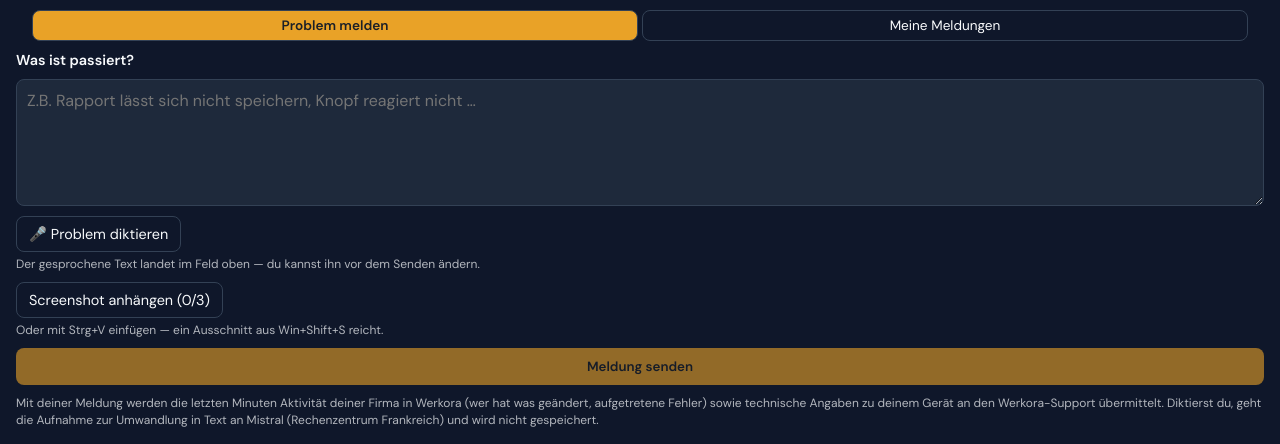
SupportForm — Diktat › hängt das Diktat an bereits getippten Text
The image size is (1280, 444).
Replace the text in the text box labelled "Was ist passiert?" with "Seit heute:" at (640, 142), box [16,79,1264,206]
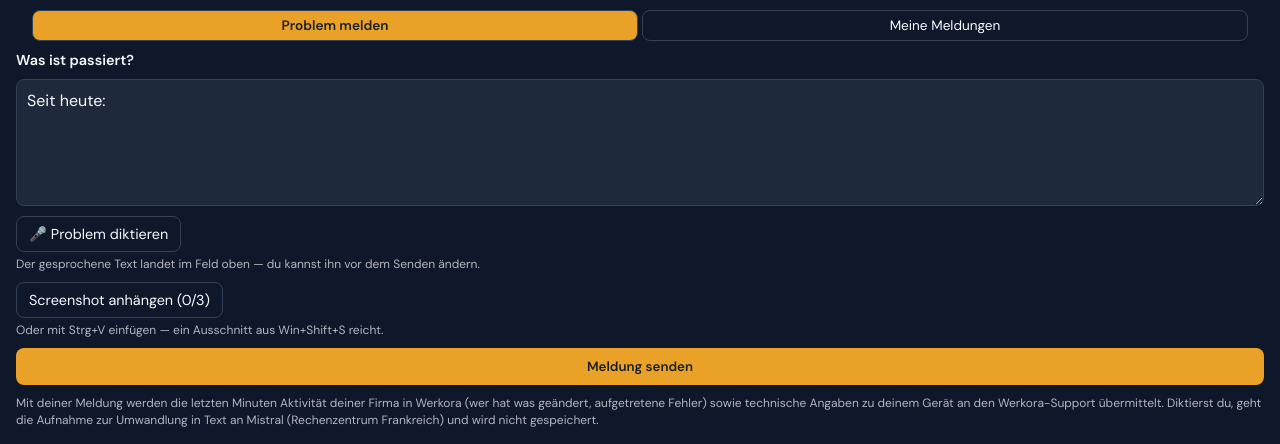
Click the button "🎤 Problem diktieren" at (99, 234), box [16,216,181,252]
Wait 1000 ms
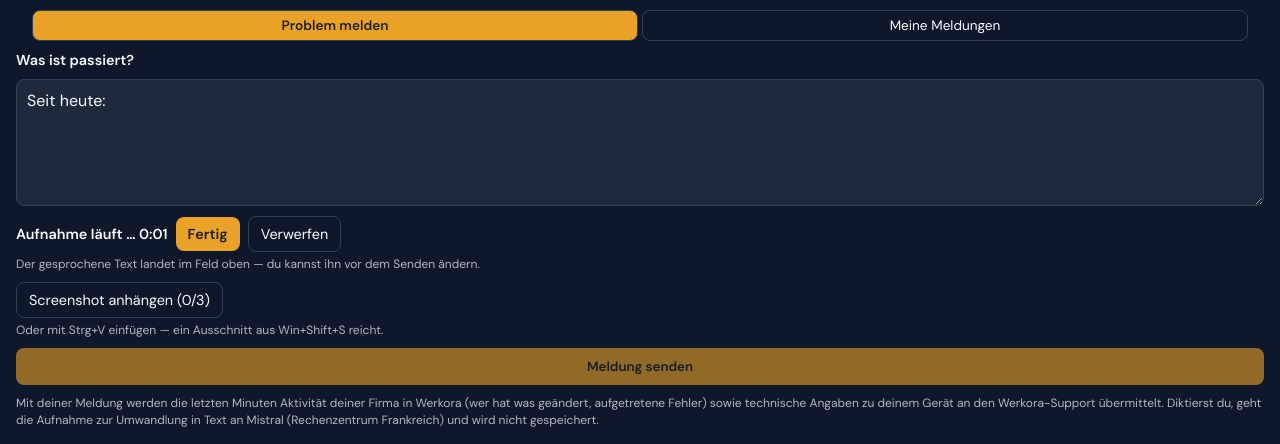
Result: the text "Aufnahme läuft" is shown at [16,225,123,243]
Click the button "Fertig" at (208, 234), box [176,217,240,251]
Wait 600 ms
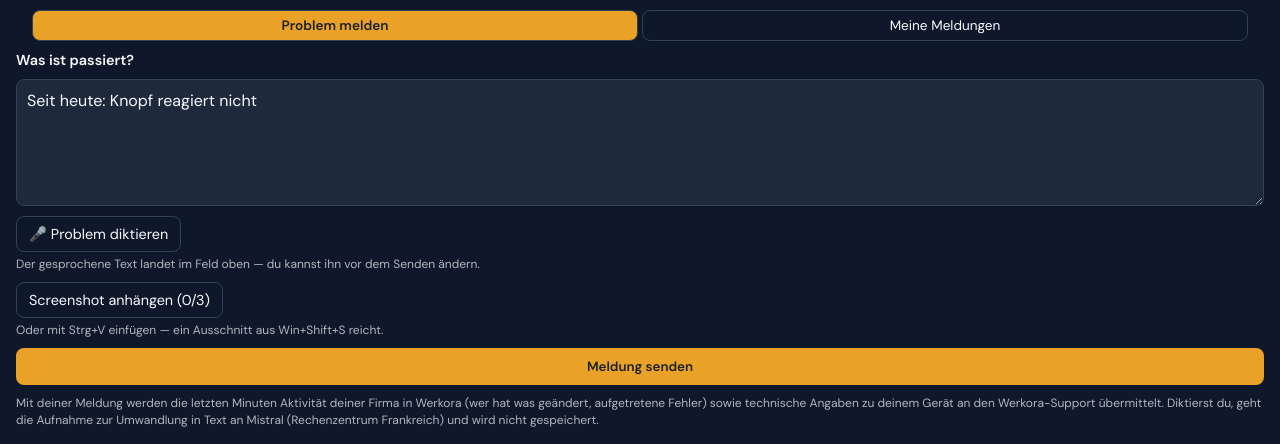
Result: the text box labelled "Was ist passiert?" holds "Seit heute: Knopf reagiert nicht" at [16,79,1264,206]
